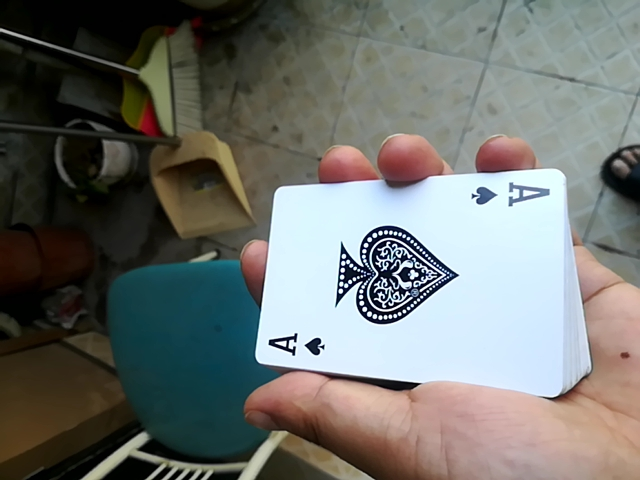ht a: (250, 164, 584, 395)
